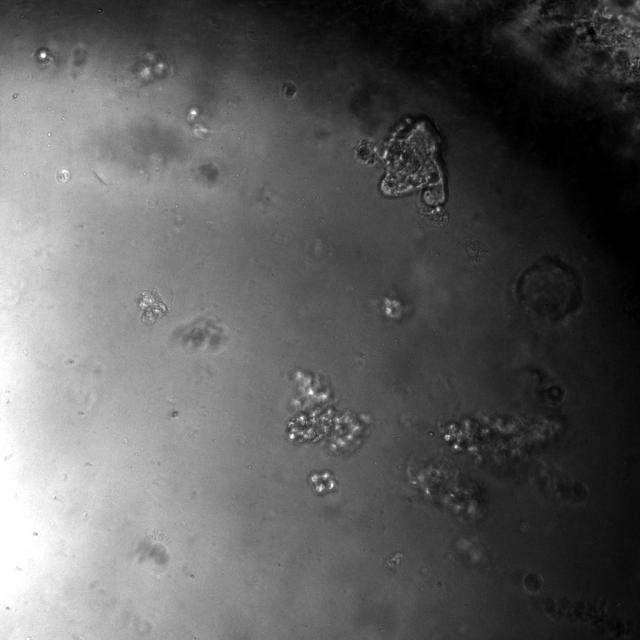organoid: (439, 415, 588, 504), (354, 115, 448, 225), (285, 370, 370, 455), (406, 453, 485, 519), (514, 256, 582, 323), (540, 596, 633, 637), (133, 50, 169, 84), (136, 291, 168, 324), (308, 470, 338, 496), (522, 572, 543, 593), (384, 551, 403, 572), (280, 81, 297, 100)
